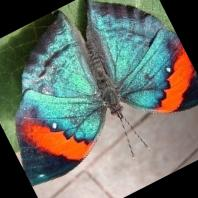butterfly: (15, 0, 198, 185)
